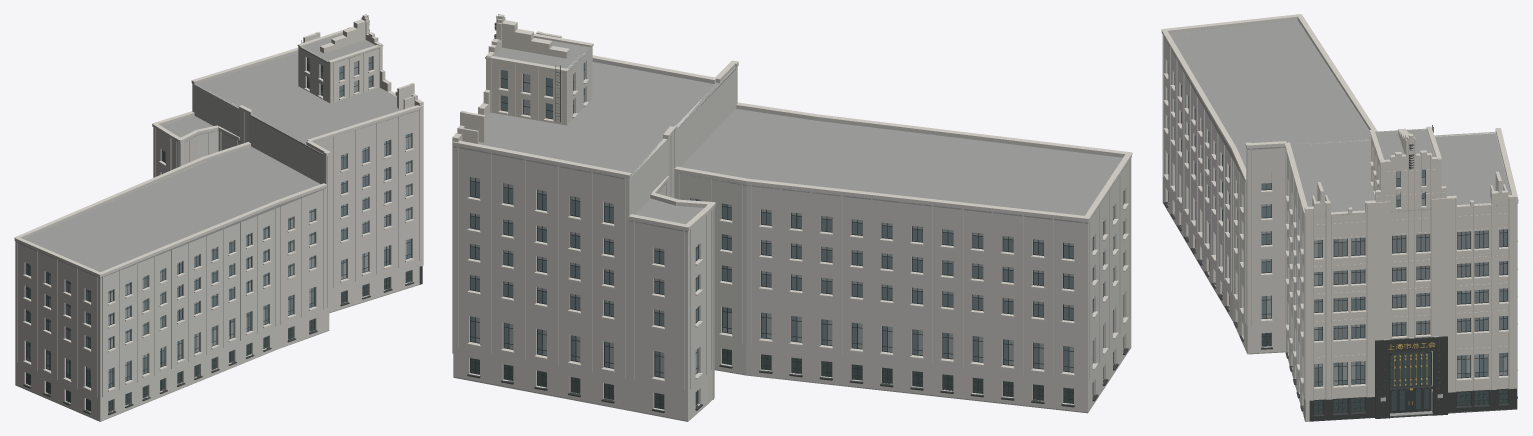
Rendered from bund14.glb.
The picture shows the model from 3 angles, left to right: view 1: azimuth 30°, elevation 25°; view 2: azimuth 150°, elevation 25°; view 3: azimuth 270°, elevation 25°; orthographic projection. The views are drawn at different scales.
Size of the model in its own units: 60.25 by 33.4 by 38.68.
